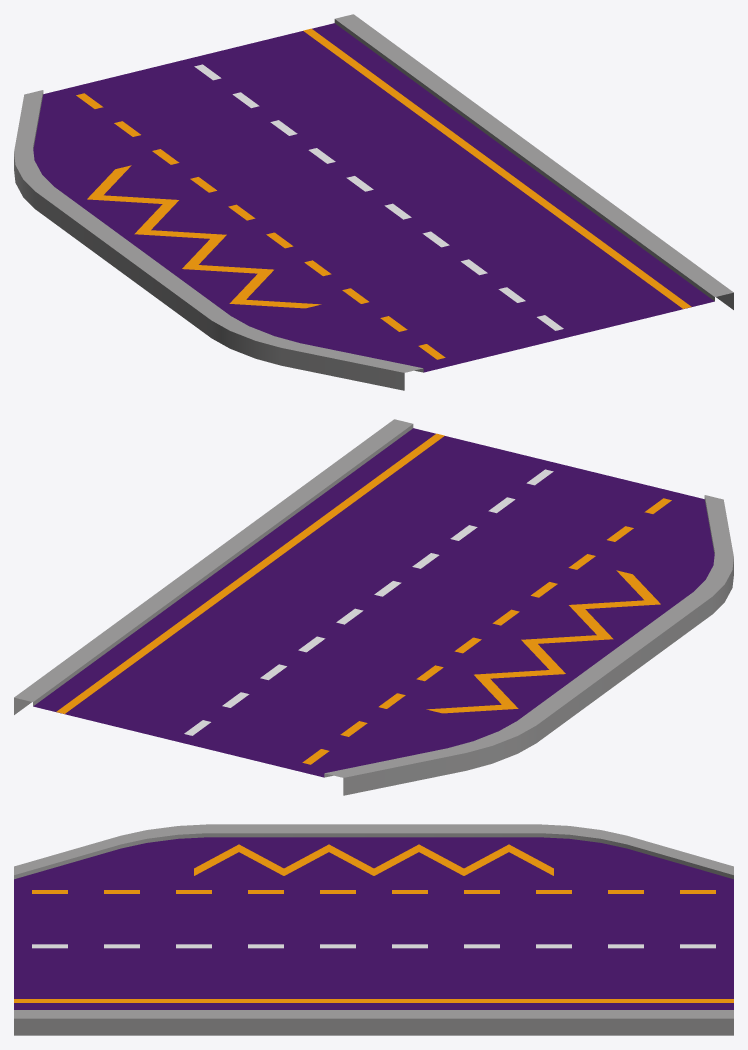
File: Road_C_4.glb
3 renders of one model, top to bottom at view 1: azimuth 30°, elevation 25°; view 2: azimuth 150°, elevation 25°; view 3: azimuth 270°, elevation 25°, orthographic. The views are drawn at different scales.
Parts seen in each view (by area): view 1: Road_C_4; view 2: Road_C_4; view 3: Road_C_4.
Part boxes in pixels (x1=…): Road_C_4: x1=14, y1=14, x2=733, y2=390; Road_C_4: x1=14, y1=419, x2=733, y2=795; Road_C_4: x1=14, y1=824, x2=733, y2=1035.
Bounding box in the file's own units: 10.21 × 0.4148 × 16.
1 material, 1 textured.
